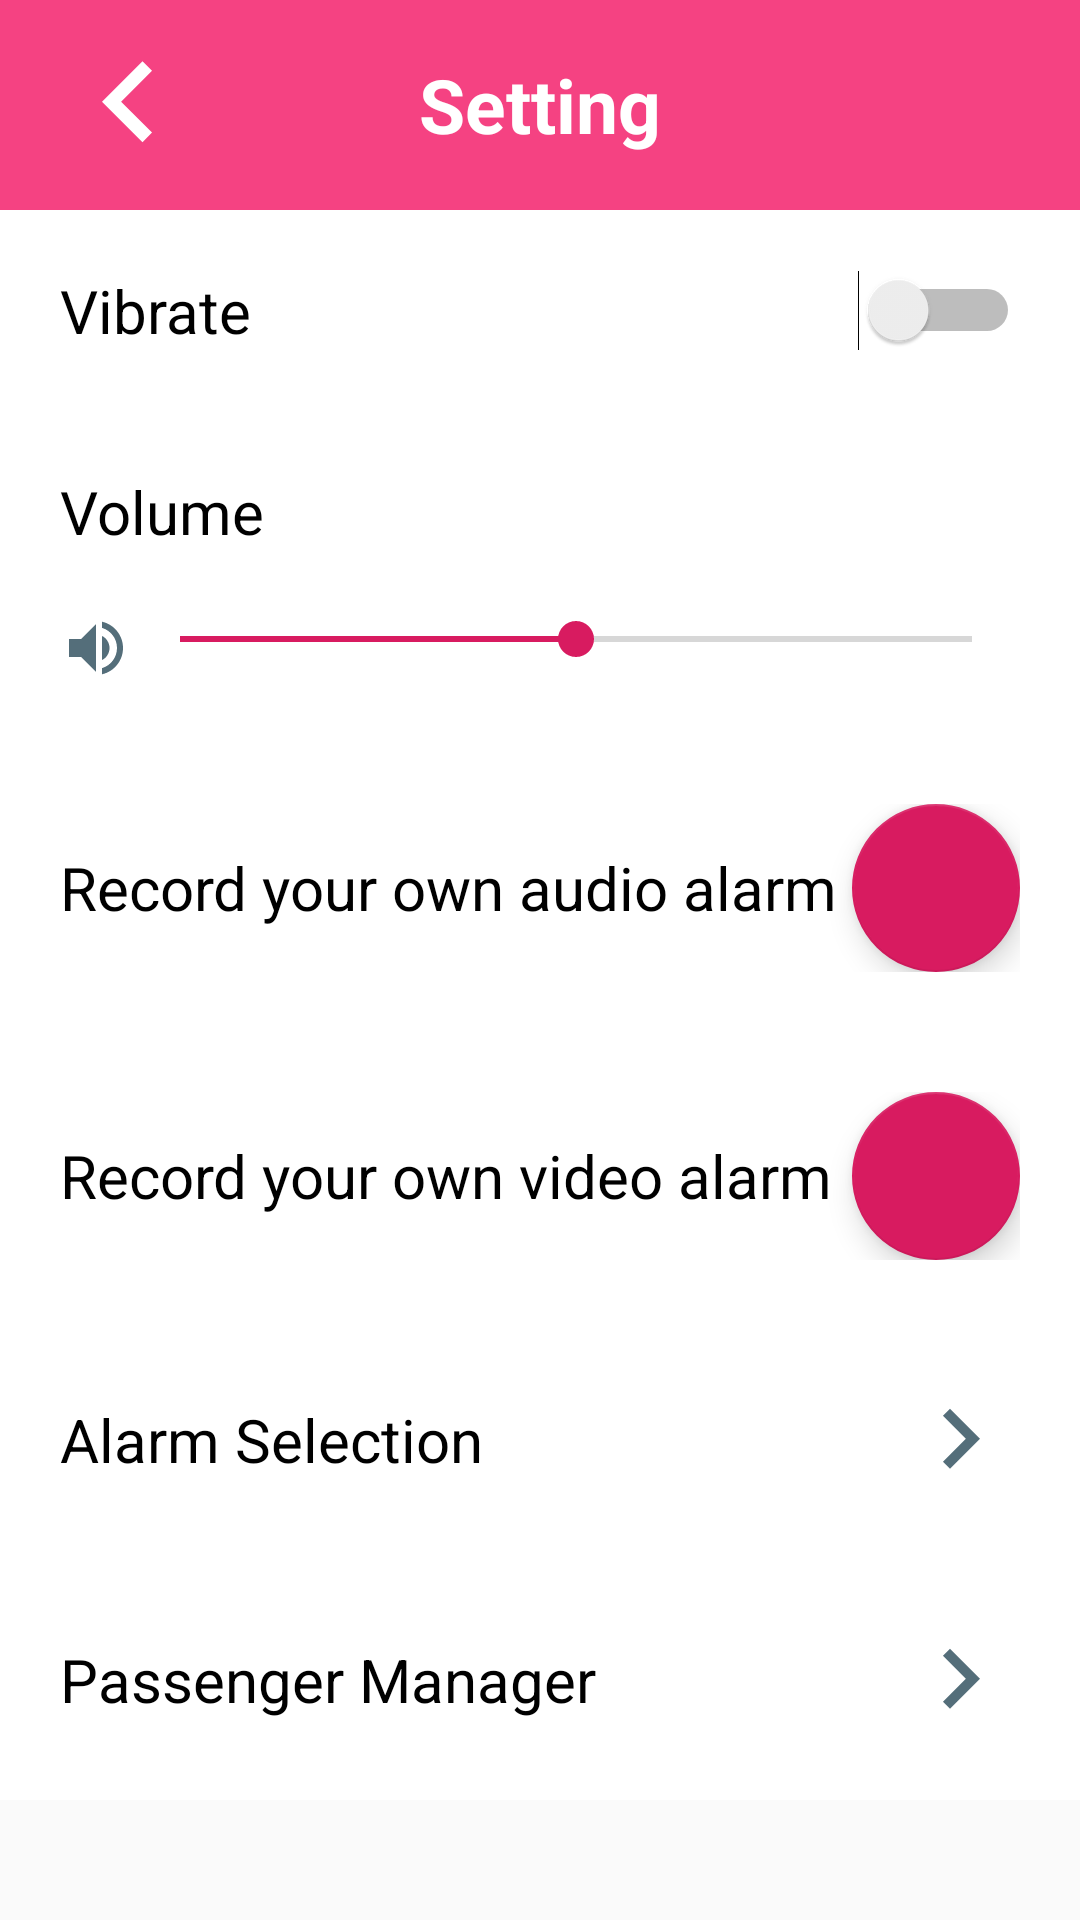

Point at icon controls on the screen. Image size 1080px×1920px, points as (x,y).
arrow right: (961,1439), (961,1679)
